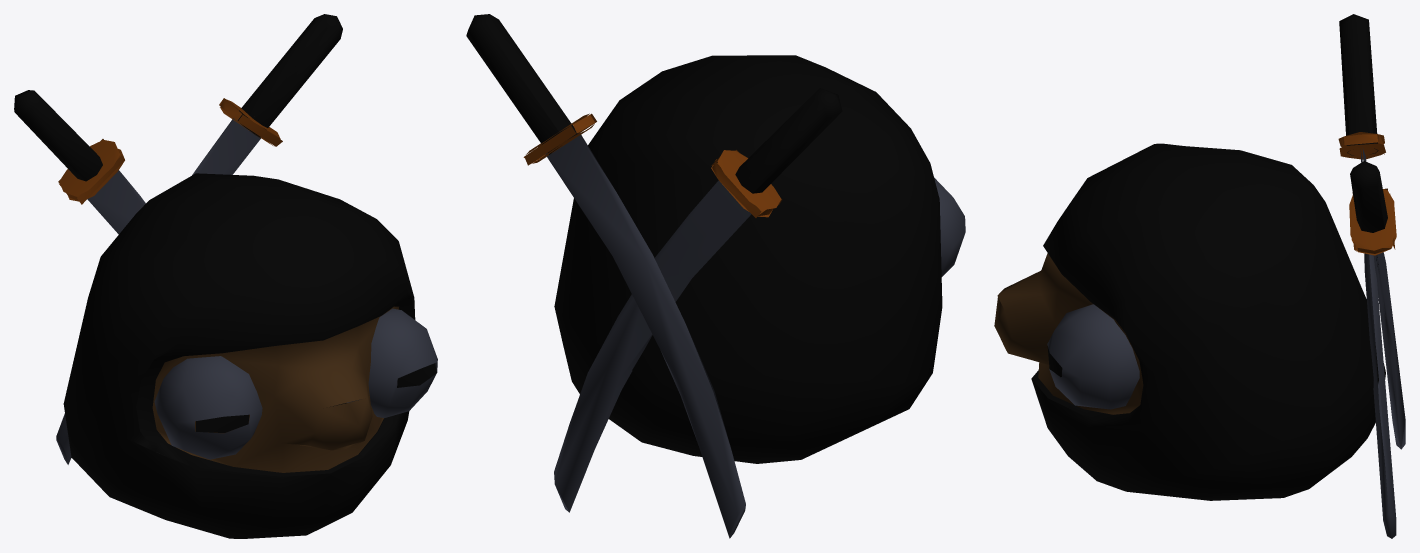
Rendered from ninja.common-far.glb.
The picture shows the model from 3 angles, left to right: view 1: azimuth 30°, elevation 25°; view 2: azimuth 150°, elevation 25°; view 3: azimuth 270°, elevation 25°; orthographic projection. The views are drawn at different scales.
Parts seen in each view (by area): view 1: HordeReadyRigidMesh; view 2: HordeReadyRigidMesh; view 3: HordeReadyRigidMesh.
Boxes of the visible parts, x1,y1,x2,y2 form: HordeReadyRigidMesh: (14,14,437,538); HordeReadyRigidMesh: (466,14,965,538); HordeReadyRigidMesh: (994,14,1405,538).
Size of the model in its own units: 0.9917 by 1.2 by 1.06.
